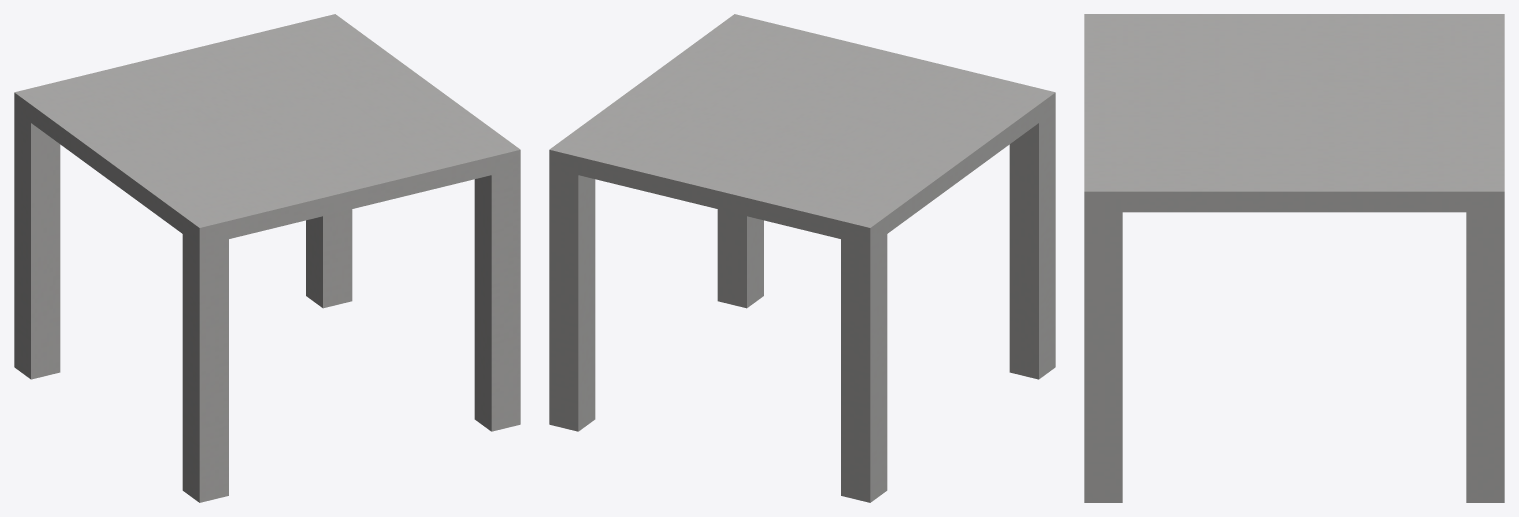
3 views of the same model, side by side, from view 1: azimuth 30°, elevation 25°; view 2: azimuth 150°, elevation 25°; view 3: azimuth 270°, elevation 25° (orthographic). The views are drawn at different scales.
Visible parts, largest first — view 1: stolecek_maly v1; view 2: stolecek_maly v1; view 3: stolecek_maly v1.
Part boxes in pixels (<box>): stolecek_maly v1: <box>14,14,520,502</box>; stolecek_maly v1: <box>549,14,1055,502</box>; stolecek_maly v1: <box>1084,14,1504,502</box>.
Bounding box in the file's own units: 0.55 × 0.55 × 0.45.
